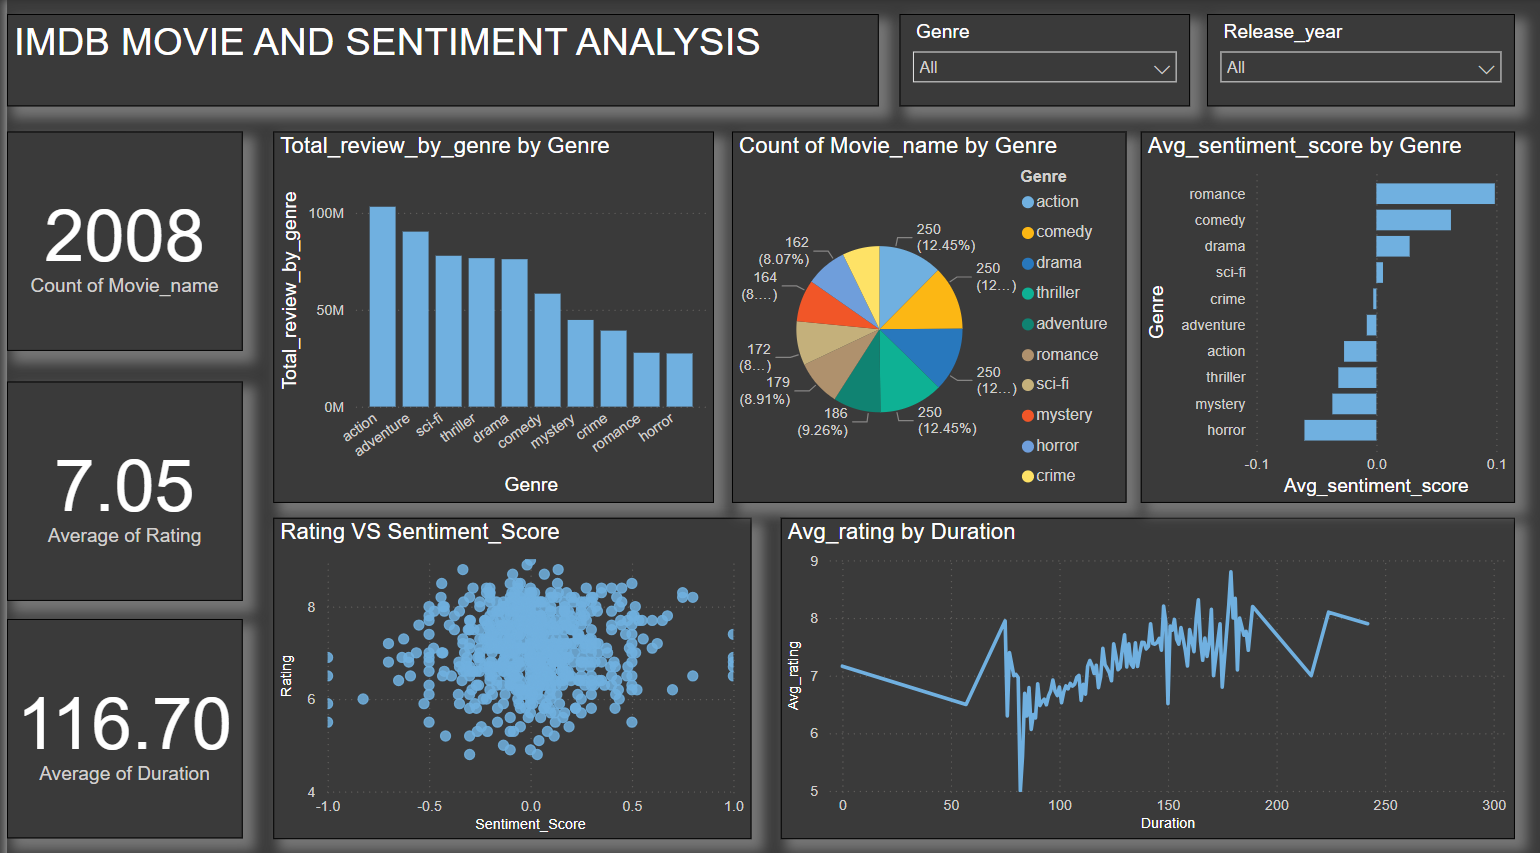

The dashboard page shown, as its layout file describes it:
{"tool":"powerbi","page":{"name":"Page 1","canvas":[1280,720],"ordinal":0},"visuals":[{"type":"columnChart","fields":{"Category":["Cleaned_Updated_Movies.Genre"],"Y":["Cleaned_Updated_Movies.Total_review_by_genre"]},"box":[220.9,109.8,366.4,308.7],"z":0},{"type":"scatterChart","title":"Rating VS Sentiment_Score","fields":{"X":["Cleaned_Updated_Movies.Sentiment_Score"],"Y":["Cleaned_Updated_Movies.Rating"]},"box":[220.9,430.9,397.9,267.6],"z":1000},{"type":"textbox","box":[0,12.3,724.5,76.8],"z":2000},{"type":"card","fields":{"Values":["Avg(Cleaned_Updated_Movies.Rating)"]},"box":[0,318.4,196.2,182.5],"z":3000},{"type":"card","fields":{"Values":["Avg(Cleaned_Updated_Movies.Duration)"]},"box":[0,516,196.2,182.5],"z":4000},{"type":"card","fields":{"Values":["CountNonNull(Cleaned_Updated_Movies.Movie_name)"]},"box":[0,109.8,196.2,182.5],"z":5000},{"type":"pieChart","fields":{"Category":["Cleaned_Updated_Movies.Genre"],"Y":["CountNonNull(Cleaned_Updated_Movies.Movie_name)"]},"box":[602.4,109.8,328,308.7],"z":6000},{"type":"lineChart","fields":{"Category":["Cleaned_Updated_Movies.Duration"],"Y":["Cleaned_Updated_Movies.Avg_rating"]},"box":[643.3,431.3,610,267.1],"z":7000},{"type":"slicer","fields":{"Values":["Cleaned_Updated_Movies.Genre"]},"box":[742.4,12.3,241.5,76.8],"z":8000},{"type":"clusteredBarChart","fields":{"Category":["Cleaned_Updated_Movies.Genre"],"Y":["Cleaned_Updated_Movies.Avg_sentiment_score"]},"box":[943,110,311,309],"z":9000},{"type":"slicer","fields":{"Values":["Cleaned_Updated_Movies.Release_year"]},"box":[997.7,12.5,255.7,76.9],"z":10000}]}

Visuals, with their boxes in screenshot pixels (x1, y1, x2, y2), scaled from the page's 1280x720 canvas onto the 1540x853 screenshot:
columnChart - Cleaned_Updated_Movies.Genre x Cleaned_Updated_Movies.Total_review_by_genre: box=[266, 130, 707, 496]
"Rating VS Sentiment_Score" scatterChart: box=[266, 510, 744, 828]
textbox: box=[0, 15, 872, 106]
card - Avg(Cleaned_Updated_Movies.Rating): box=[0, 377, 236, 593]
card - Avg(Cleaned_Updated_Movies.Duration): box=[0, 611, 236, 828]
card - CountNonNull(Cleaned_Updated_Movies.Movie_name): box=[0, 130, 236, 346]
pieChart - Cleaned_Updated_Movies.Genre x CountNonNull(Cleaned_Updated_Movies.Movie_name): box=[725, 130, 1119, 496]
lineChart - Cleaned_Updated_Movies.Duration x Cleaned_Updated_Movies.Avg_rating: box=[774, 511, 1508, 827]
slicer - Cleaned_Updated_Movies.Genre: box=[893, 15, 1184, 106]
clusteredBarChart - Cleaned_Updated_Movies.Genre x Cleaned_Updated_Movies.Avg_sentiment_score: box=[1135, 130, 1509, 496]
slicer - Cleaned_Updated_Movies.Release_year: box=[1200, 15, 1508, 106]
